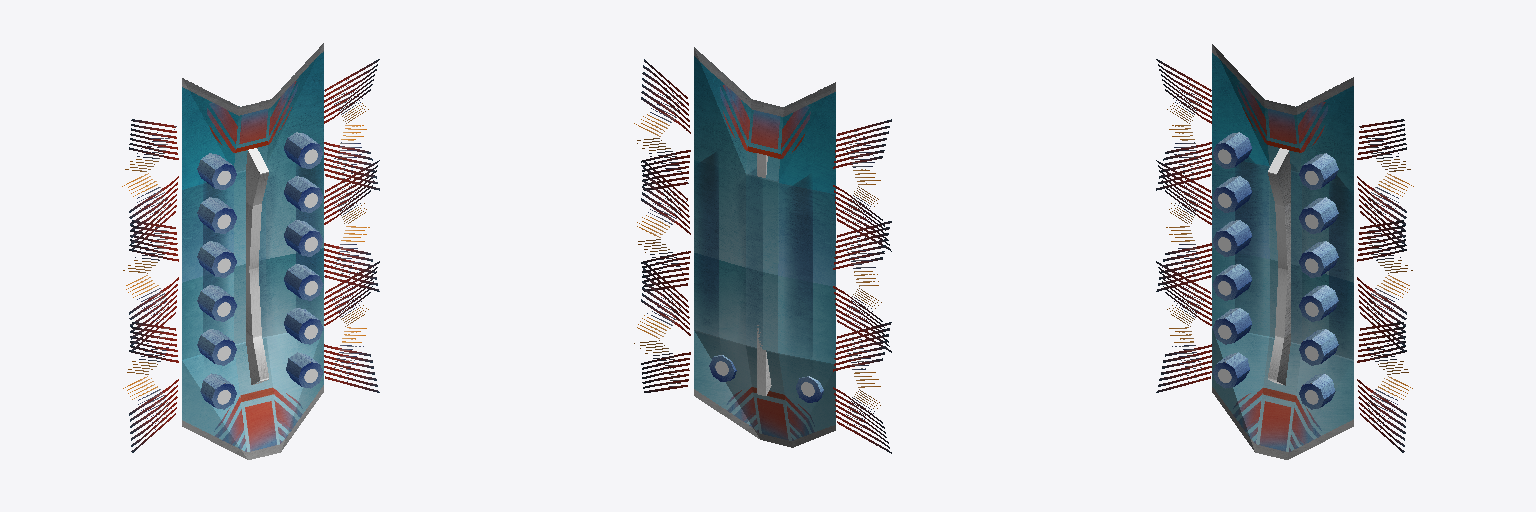
3 views of the same model, side by side, from view 1: azimuth 30°, elevation 25°; view 2: azimuth 150°, elevation 25°; view 3: azimuth 330°, elevation 25° (orthographic).
Visible parts, largest first — view 1: head, nose, fur_R_01, fur_L_01, fur_L_03, fur_R_02, fur_R_03, fur_L_02, eye_R_04, eye_R_05, eye_L_03, eye_R_02 (+8 smaller); view 2: head, fur_R_01, fur_L_03, fur_L_01, fur_R_03, fur_R_02, fur_L_02, nose, eye_R_06, eye_L_06; view 3: head, nose, fur_L_01, fur_L_03, fur_R_01, fur_L_02, fur_R_03, fur_R_02, eye_L_04, eye_L_05, eye_R_03, eye_L_02 (+8 smaller).
Boxes of the visible parts, <box> form: head: <box>182,43,323,459</box>; nose: <box>246,148,268,384</box>; fur_R_01: <box>122,119,178,250</box>; fur_L_01: <box>324,59,379,190</box>; fur_L_03: <box>324,261,379,392</box>; fur_R_02: <box>123,220,178,351</box>; fur_R_03: <box>123,322,178,452</box>; fur_L_02: <box>324,160,379,291</box>; eye_R_04: <box>197,285,236,321</box>; eye_R_05: <box>197,329,236,365</box>; eye_L_03: <box>284,220,322,256</box>; eye_R_02: <box>197,197,236,233</box>; head: <box>694,47,835,447</box>; fur_R_01: <box>833,119,891,251</box>; fur_L_03: <box>634,263,690,392</box>; fur_L_01: <box>634,59,690,190</box>; fur_R_03: <box>833,322,891,453</box>; fur_R_02: <box>833,221,891,352</box>; fur_L_02: <box>637,162,690,291</box>; nose: <box>757,153,771,395</box>; eye_R_06: <box>796,376,823,402</box>; eye_L_06: <box>709,355,736,381</box>; head: <box>1212,44,1353,459</box>; nose: <box>1268,148,1290,385</box>; fur_L_01: <box>1357,119,1413,250</box>; fur_L_03: <box>1357,322,1412,452</box>; fur_R_01: <box>1156,59,1211,190</box>; fur_L_02: <box>1357,220,1412,351</box>; fur_R_03: <box>1156,261,1211,392</box>; fur_R_02: <box>1156,160,1211,291</box>; eye_L_04: <box>1299,285,1338,321</box>; eye_L_05: <box>1299,329,1338,365</box>; eye_R_03: <box>1213,220,1251,256</box>; eye_L_02: <box>1299,197,1338,233</box>.
Size of the model in its own units: 318 by 474 by 51.62.
Materials: 1 (1 with a texture image).